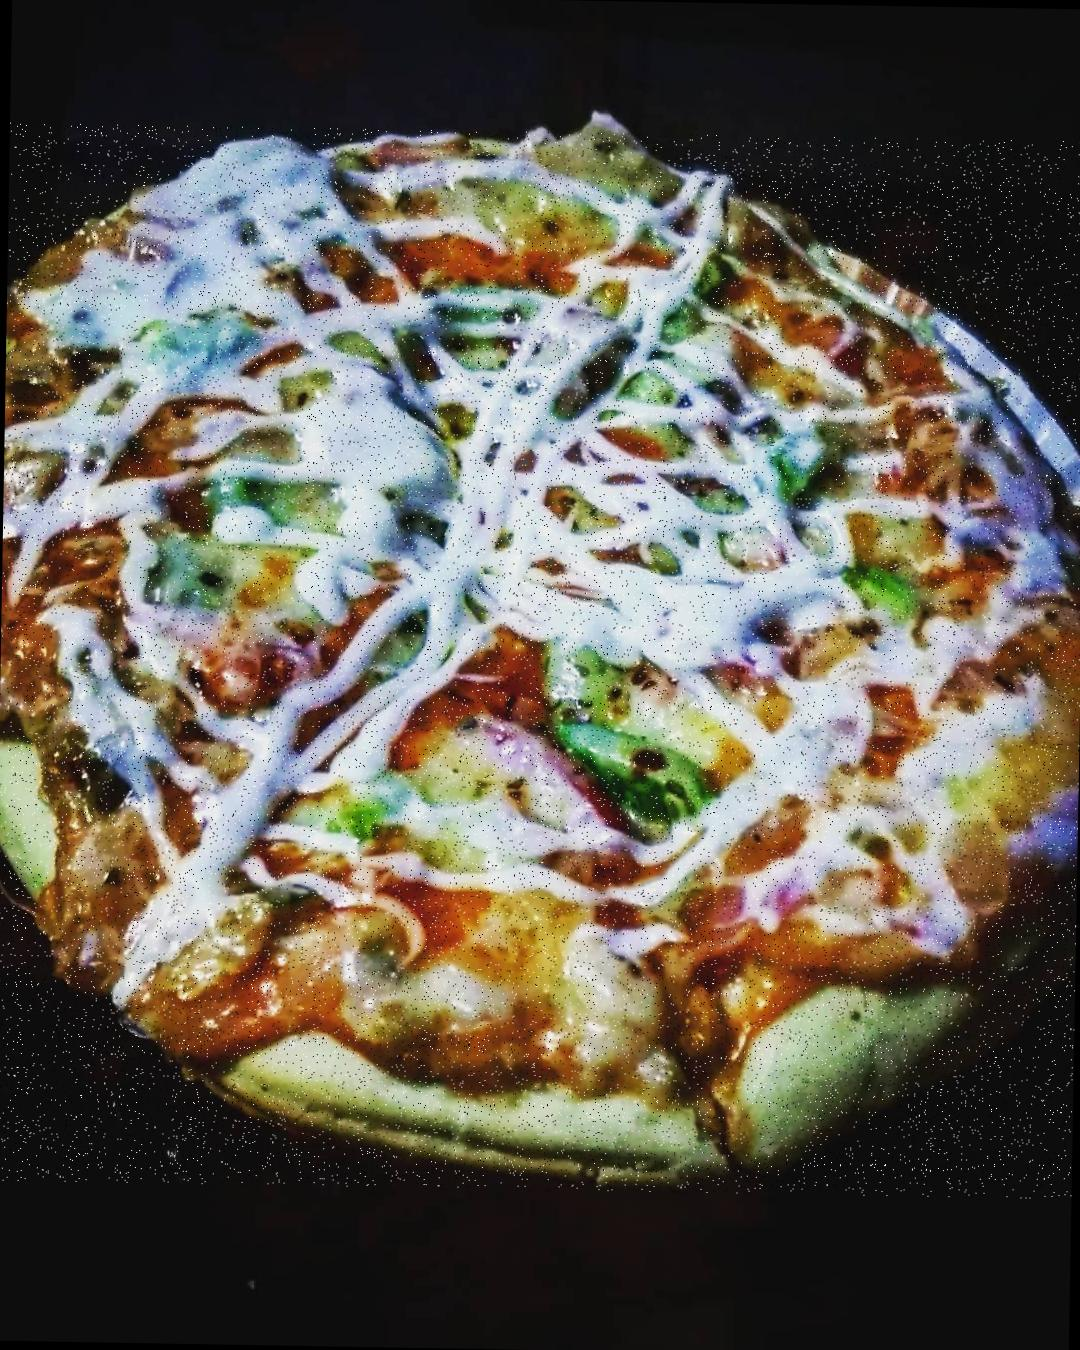Pizza: (0, 122, 1080, 1199)
